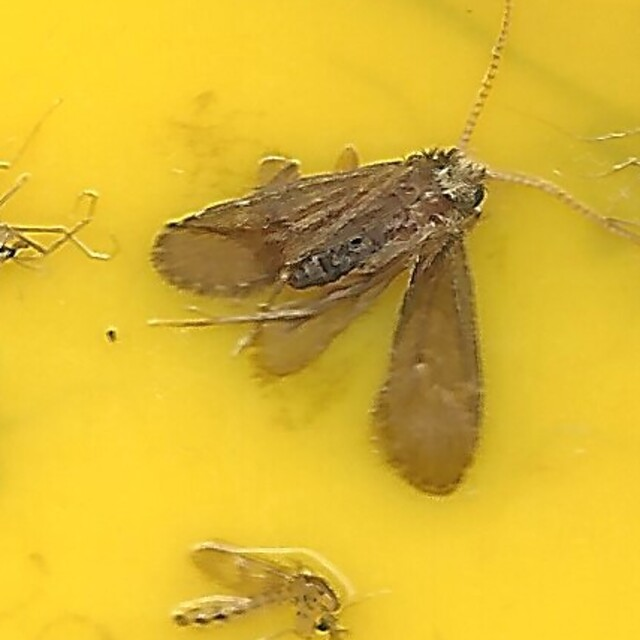Trichoptera: (150, 143, 490, 497)
